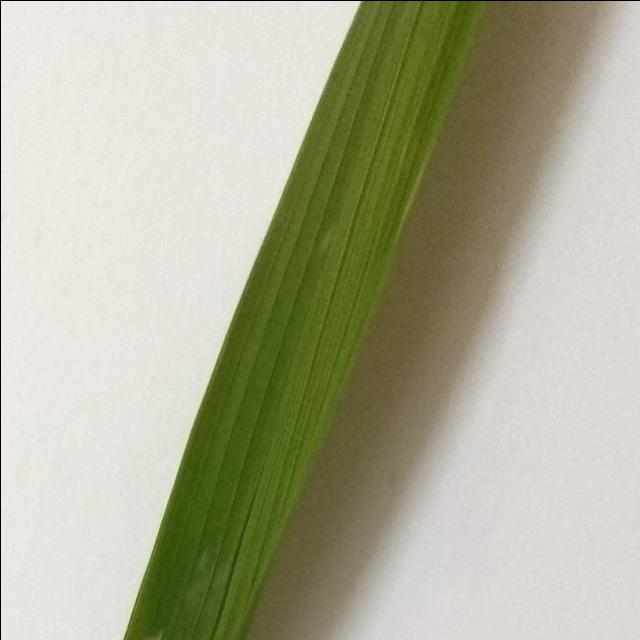healthy: (112, 0, 530, 640)
